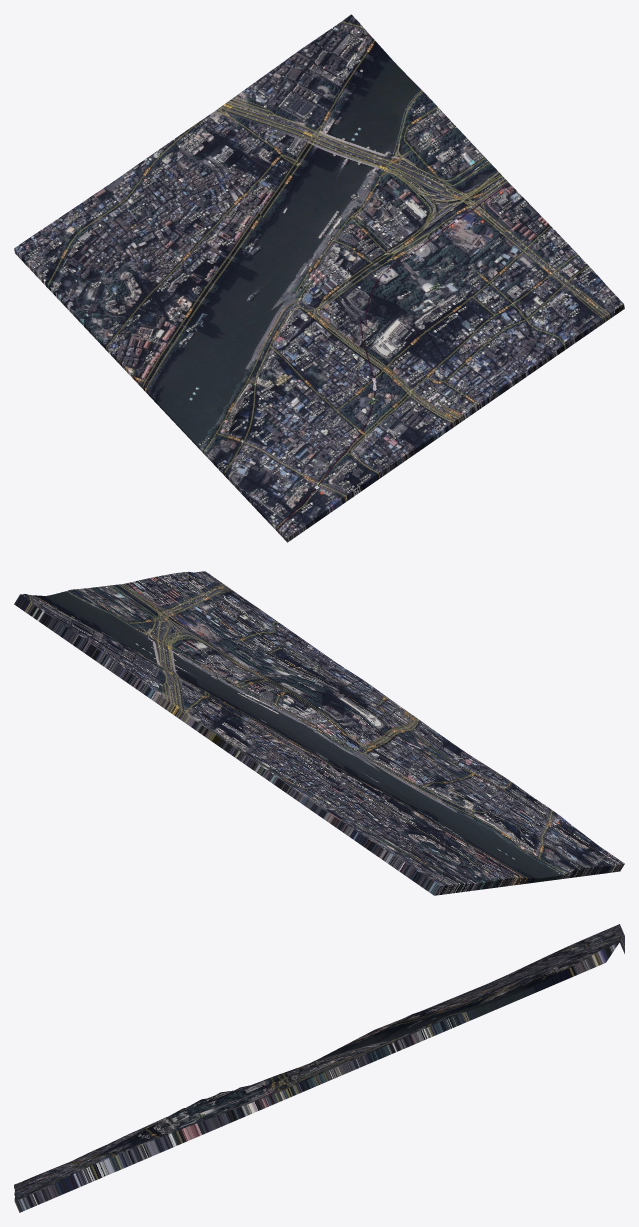
3 renders of one model, top to bottom at view 1: azimuth 30°, elevation 25°; view 2: azimuth 150°, elevation 25°; view 3: azimuth 270°, elevation 25°, orthographic. The views are drawn at different scales.
Visible parts, largest first — view 1: 1_6_4; view 2: 1_6_4; view 3: 1_6_4.
Boxes of the visible parts, x1,y1,x2,y2 form: 1_6_4: (14, 14, 624, 542); 1_6_4: (14, 571, 624, 895); 1_6_4: (14, 924, 624, 1212).
Size of the model in its own units: 1231 by 904 by 1129.
Materials: 1 (1 with a texture image).
